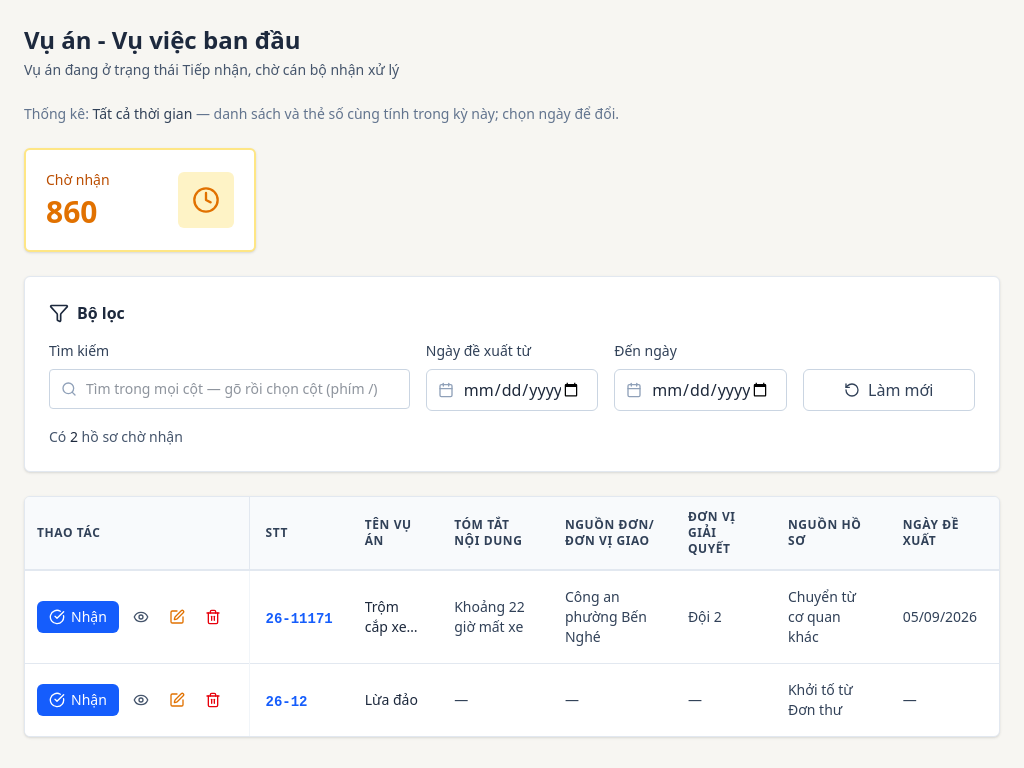
Test case: InitialCasesPage — dữ liệu thật, lọc ở máy chủ › [rà mã P2] Xoá → hộp xoá chuẩn hỏi LÝ DO (máy chủ bắt buộc), gửi kèm lý do rồi tải lại; hỏng thì giữ hộp + lý do
The width and height of the screenshot is (1024, 768).
Expected: the row with test id "initial-row-c1" is shown, [25,570,999,664]
Step 1. Click the button with test id "btn-delete-c1" → x=213, y=617, box [199,603,227,631]
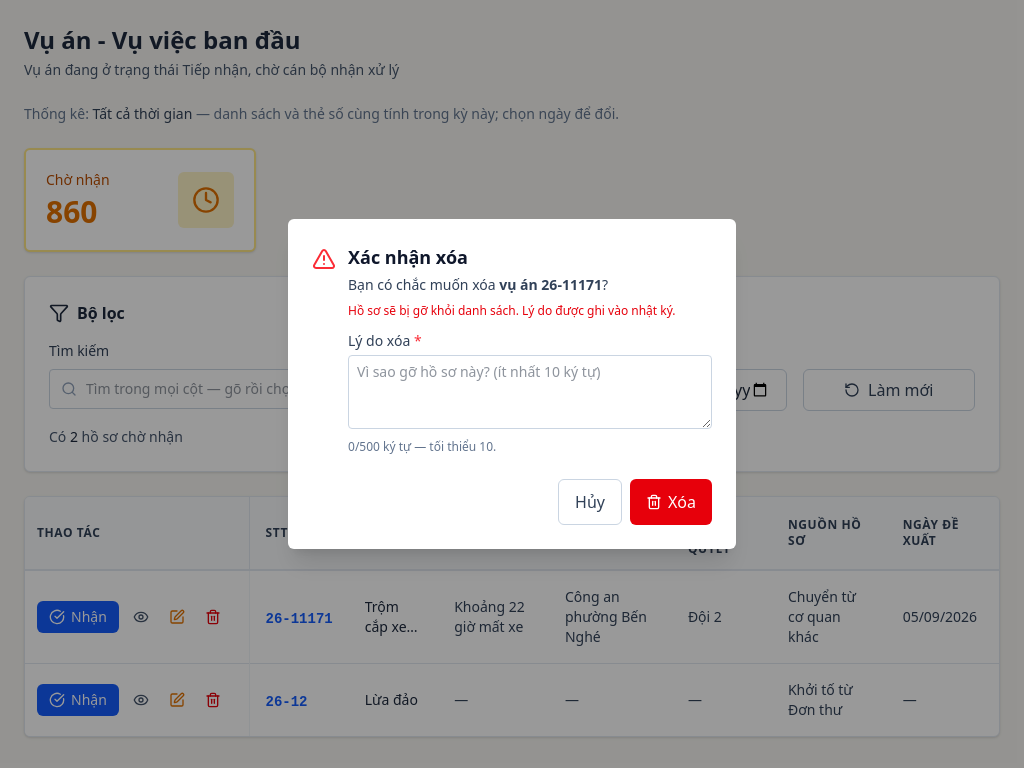
Step 2. Type "Hồ sơ nhập trùng lặp" into the text box with test id "input-ly-do-xoa" → x=530, y=392, box [348,355,712,429]
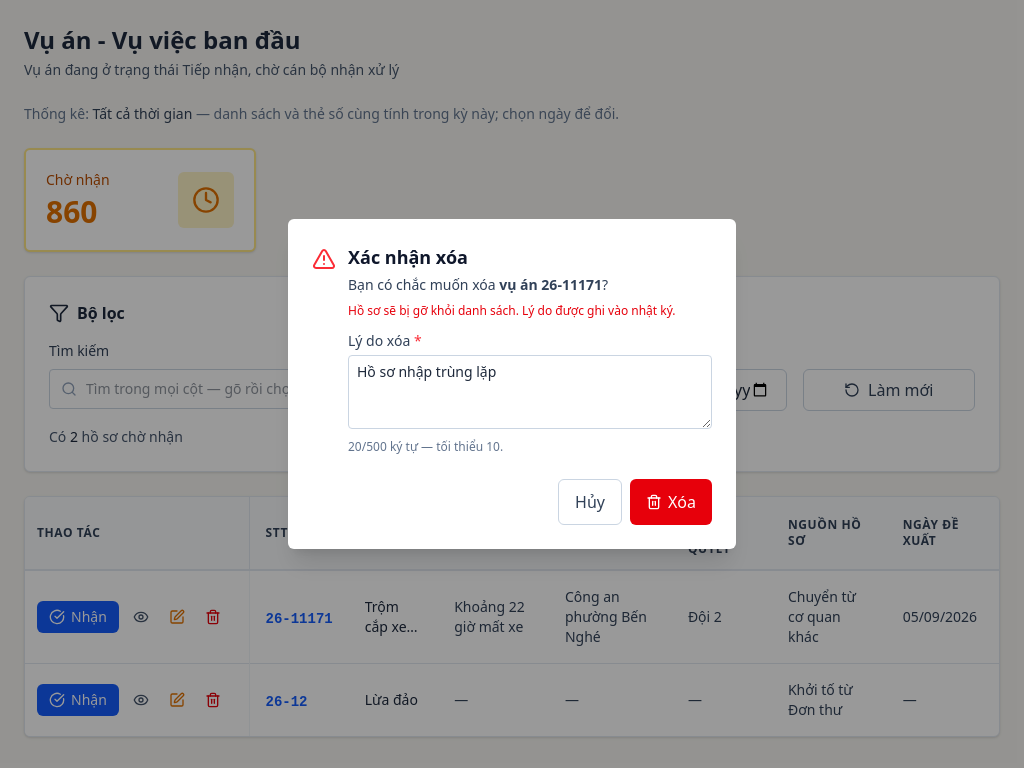
Step 3. Click the button with test id "btn-confirm-delete" → x=671, y=502, box [630,479,712,525]
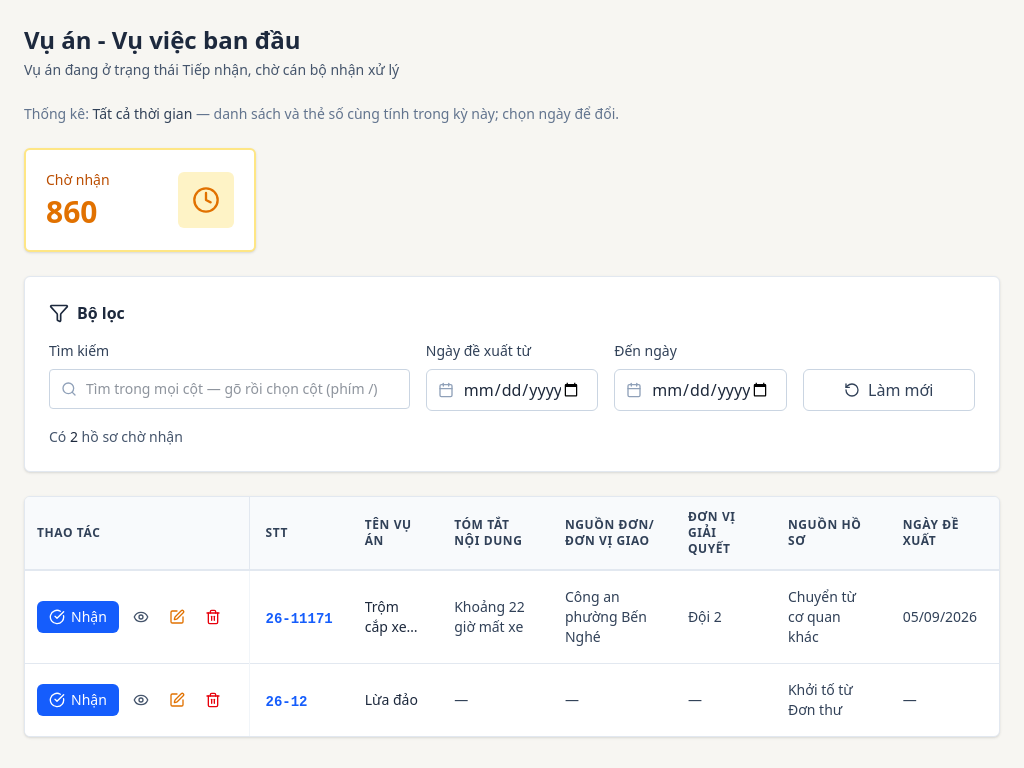
Now the dialog with test id "delete-confirm-modal" is gone
Step 4. Click the button with test id "btn-delete-c1" → x=213, y=617, box [199,603,227,631]
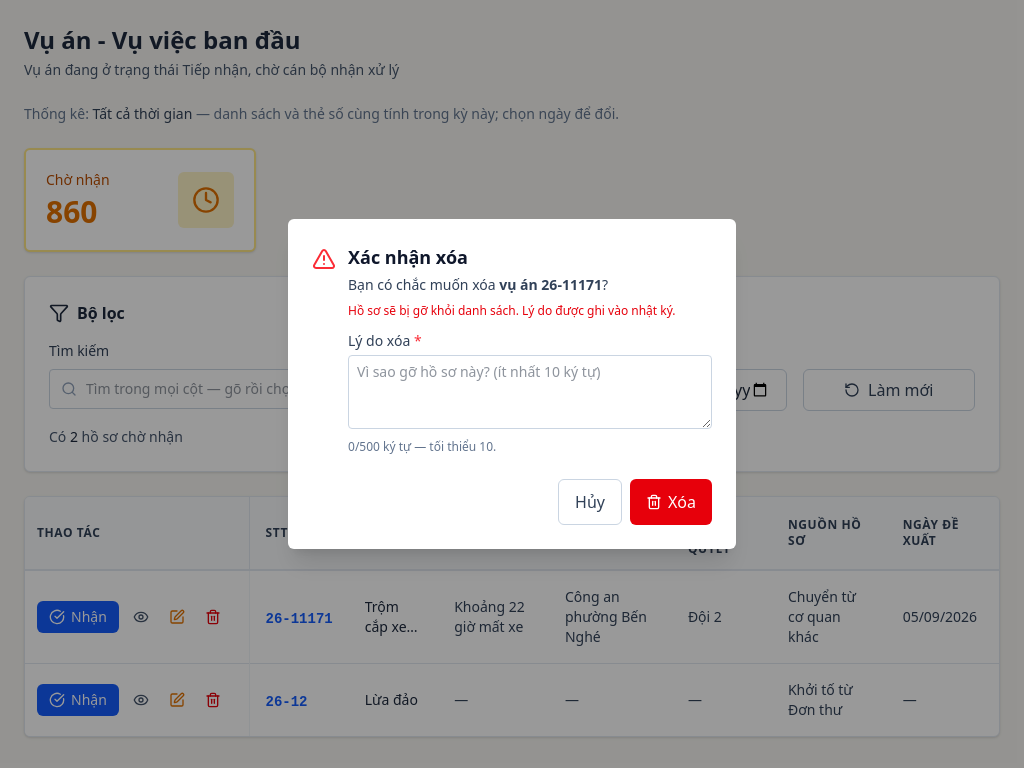
Step 5. Type "Hồ sơ nhập trùng lặp" into the text box with test id "input-ly-do-xoa" → x=530, y=392, box [348,355,712,429]
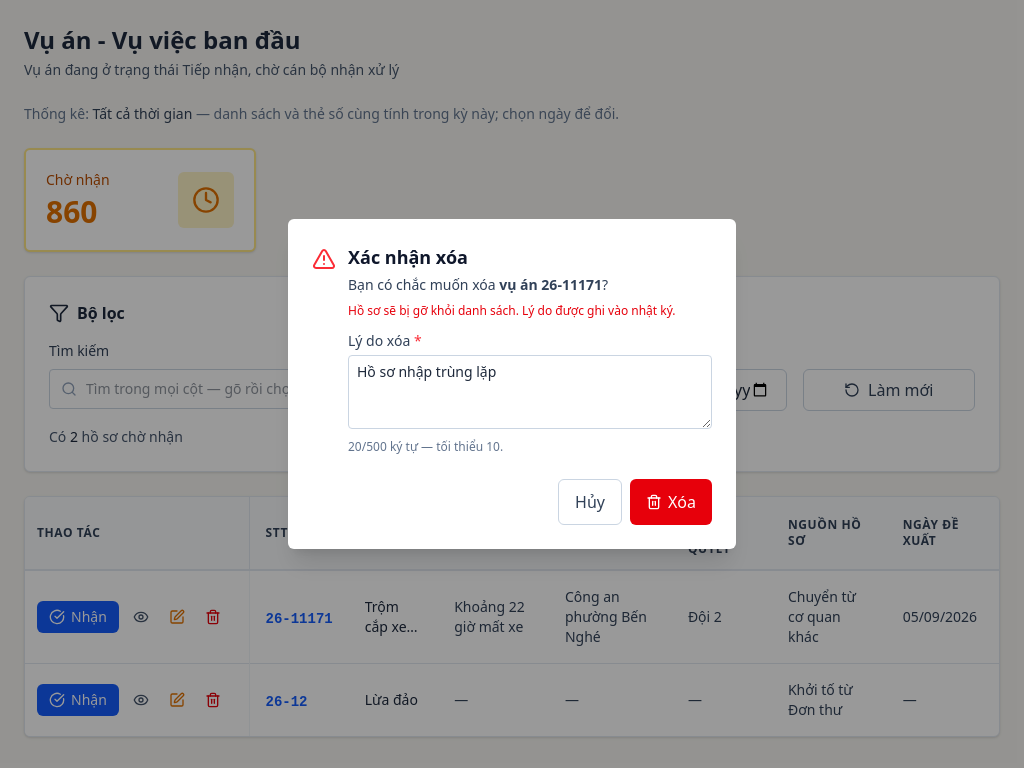
Step 6. Click the button with test id "btn-confirm-delete" → x=671, y=502, box [630,479,712,525]
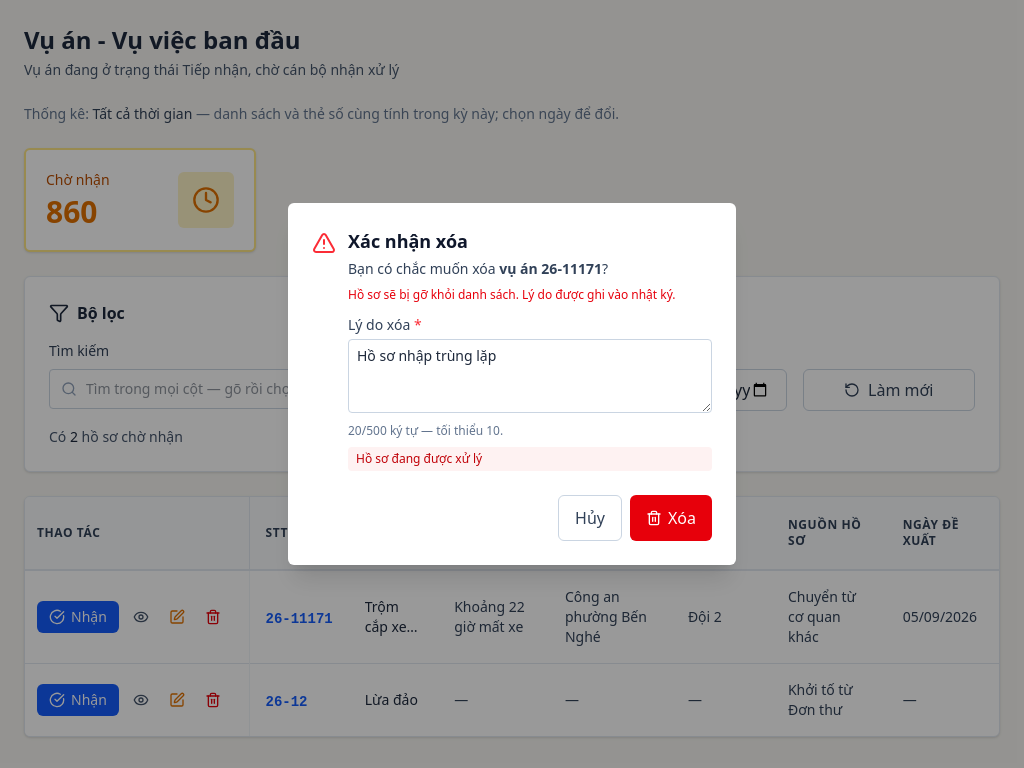
Now the dialog with test id "delete-confirm-modal" is shown
Now the text "Hồ sơ đang được xử lý" is shown, box [348,447,712,471]
